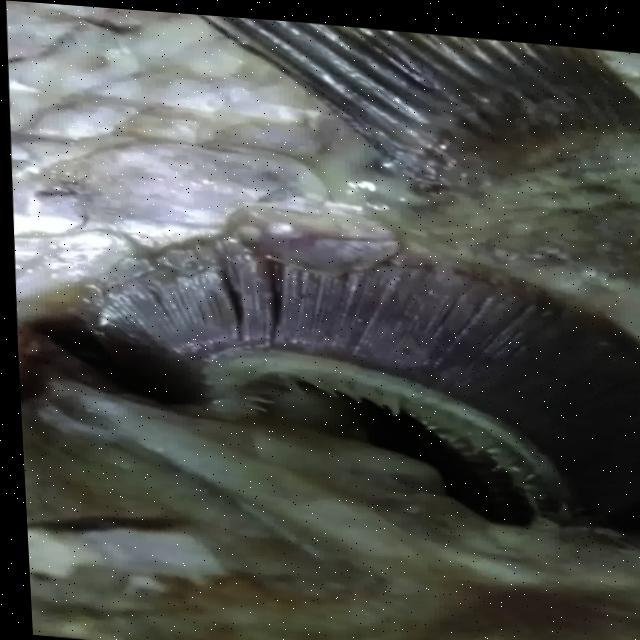Non-Fresh: (56, 197, 640, 529)
